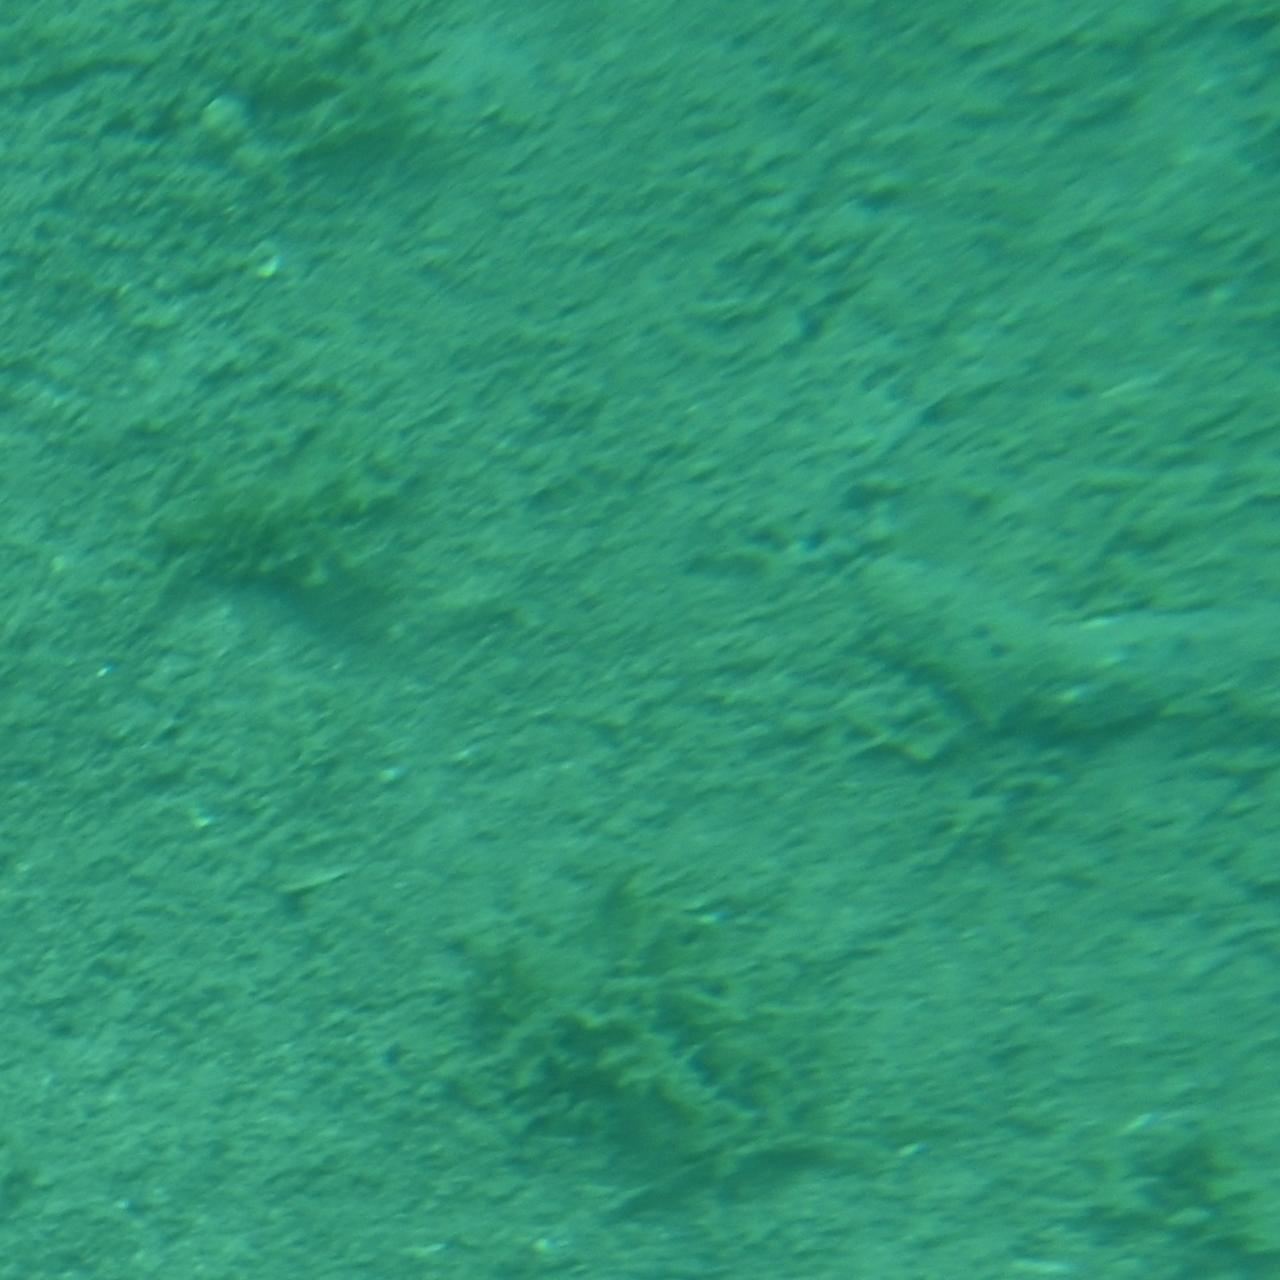Holothuria tubulosa: (835, 523, 1279, 757)
